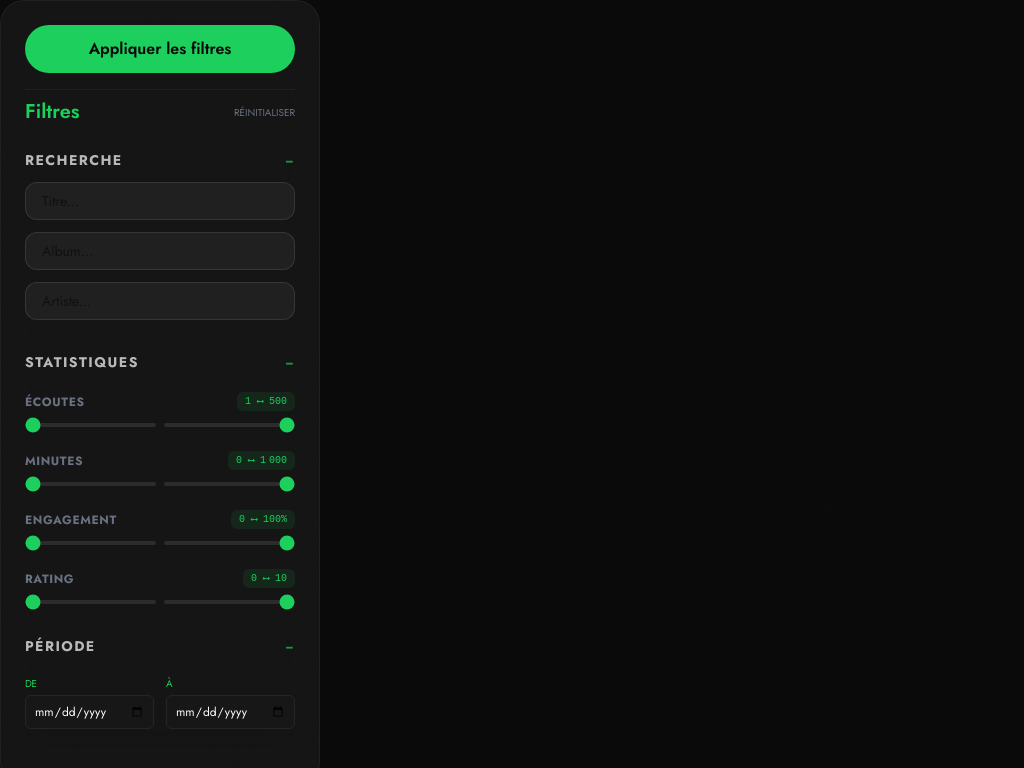
Test: SidebarFilters – groupes repliables › affiche « − » quand un groupe est ouvert et « + » une fois replié
The width and height of the screenshot is (1024, 768).
Step 1. Click the button "Recherche −" → click(74, 160), box [25,150,295,170]
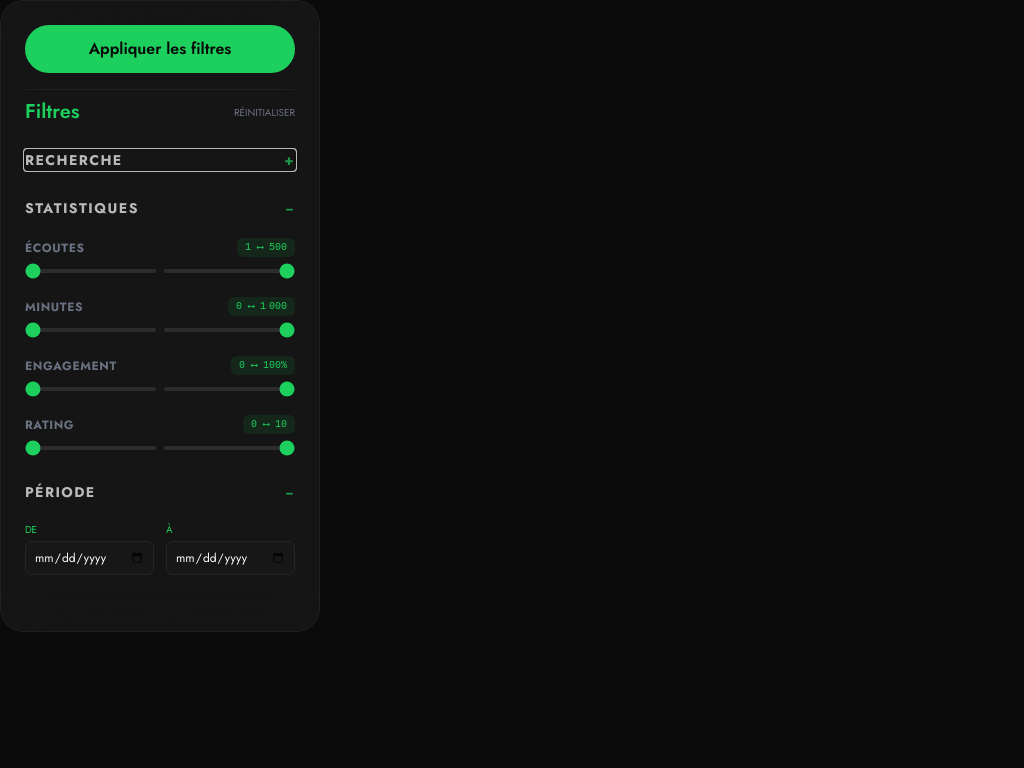
Expected: the button "Recherche +" is shown
Step 2. Click the button "Recherche +" → click(74, 160), box [25,150,295,170]
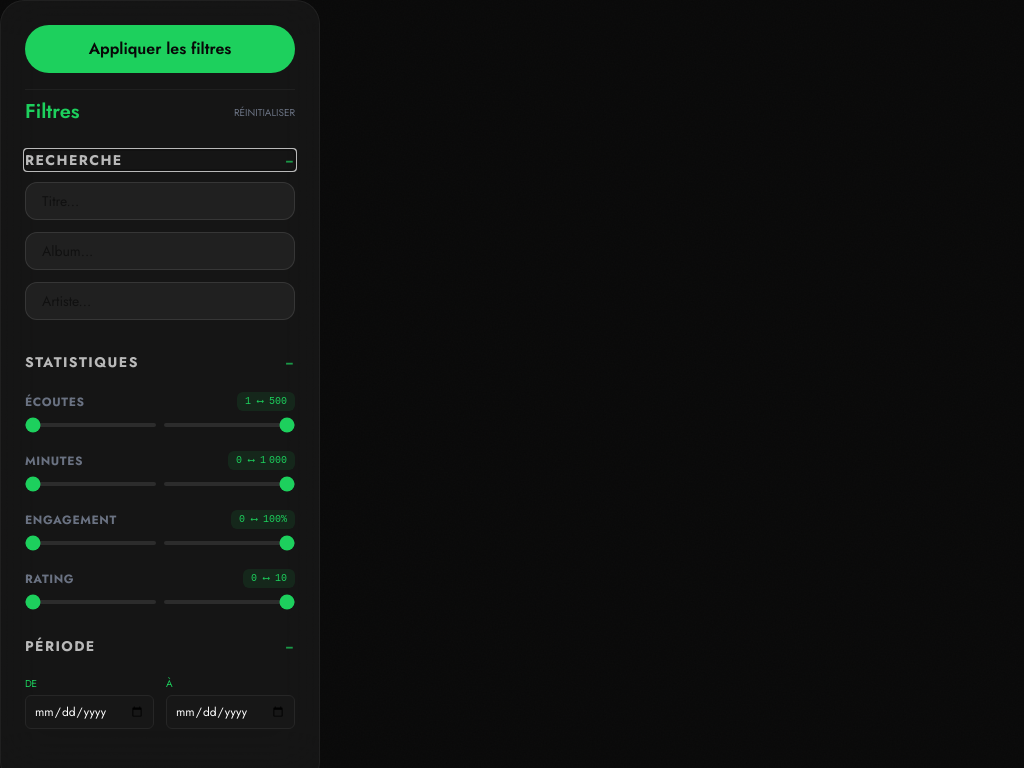
Expected: the button "Recherche −" is shown, [25,150,295,170]
